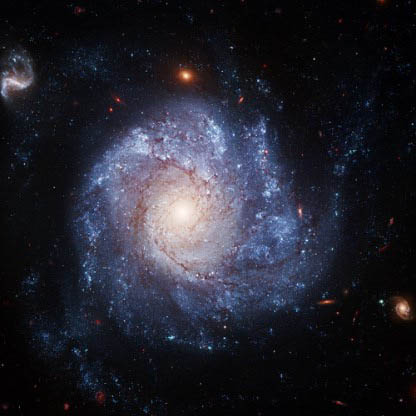NGC 1309: (7, 47, 416, 355)
